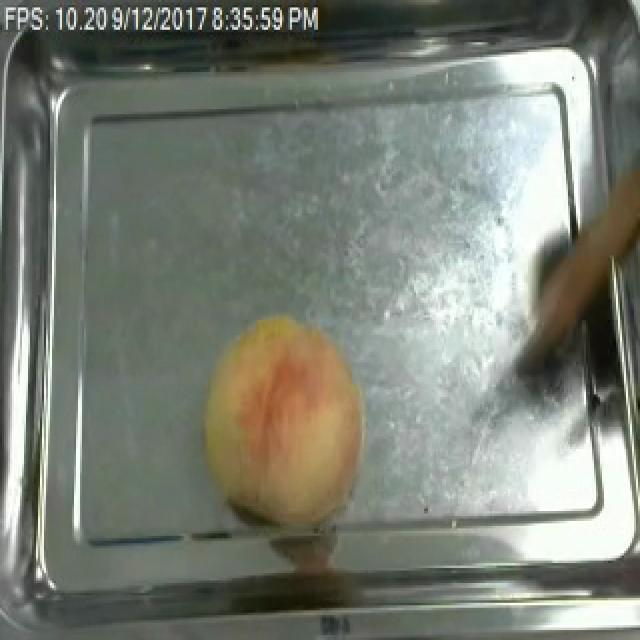Fruit: (194, 307, 378, 531)
